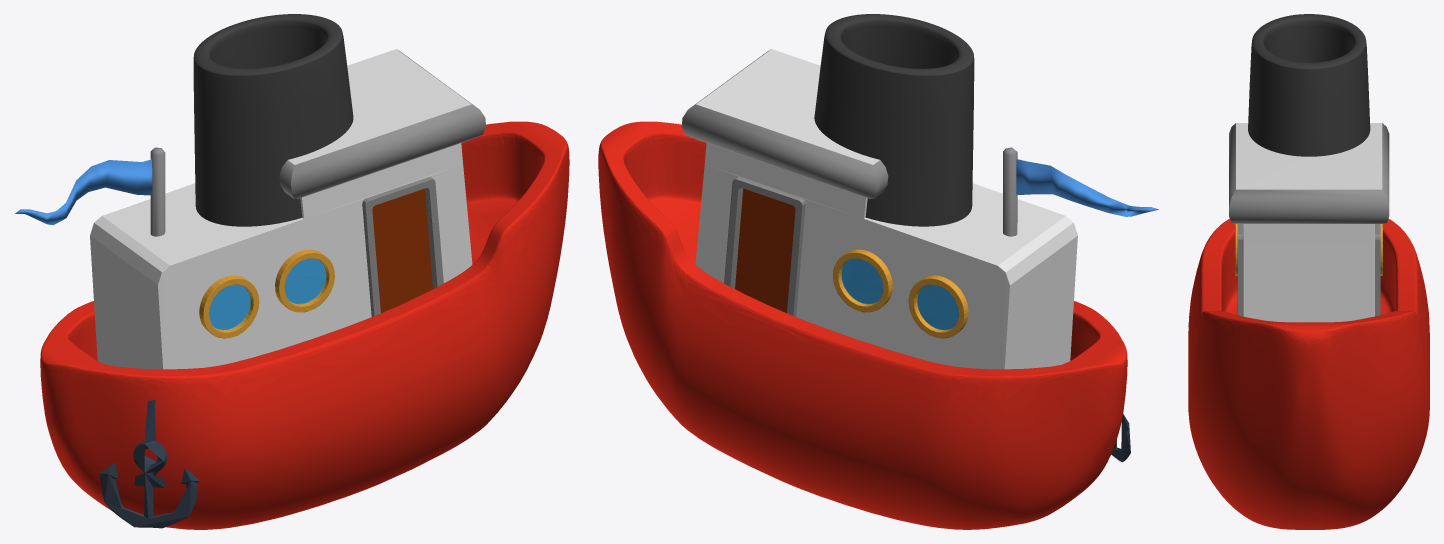
The picture shows the model from 3 angles, left to right: view 1: azimuth 30°, elevation 25°; view 2: azimuth 150°, elevation 25°; view 3: azimuth 270°, elevation 25°; orthographic projection. The views are drawn at different scales.
Parts seen in each view (by area): view 1: hull_Cube.002, cabin_Cube.003, chimney_Cylinder.001, anchor_Circle, flag_Cube.005, flagpole_Cube.004; view 2: hull_Cube.002, cabin_Cube.003, chimney_Cylinder.001, flag_Cube.005, flagpole_Cube.004; view 3: hull_Cube.002, cabin_Cube.003, chimney_Cylinder.001.
Boxes of the visible parts, x1,y1,x2,y2 form: hull_Cube.002: [40, 121, 569, 529]; cabin_Cube.003: [90, 49, 486, 369]; chimney_Cylinder.001: [193, 14, 353, 226]; anchor_Circle: [99, 400, 199, 528]; flag_Cube.005: [15, 159, 152, 225]; flagpole_Cube.004: [150, 147, 165, 236]; hull_Cube.002: [598, 121, 1127, 529]; cabin_Cube.003: [681, 49, 1077, 369]; chimney_Cylinder.001: [814, 14, 974, 226]; flag_Cube.005: [1016, 159, 1158, 216]; flagpole_Cube.004: [1003, 147, 1017, 236]; hull_Cube.002: [1188, 218, 1429, 529]; cabin_Cube.003: [1229, 123, 1389, 322]; chimney_Cylinder.001: [1248, 14, 1370, 156].
Bounding box in the file's own units: 7.33 × 5.86 × 2.88.
